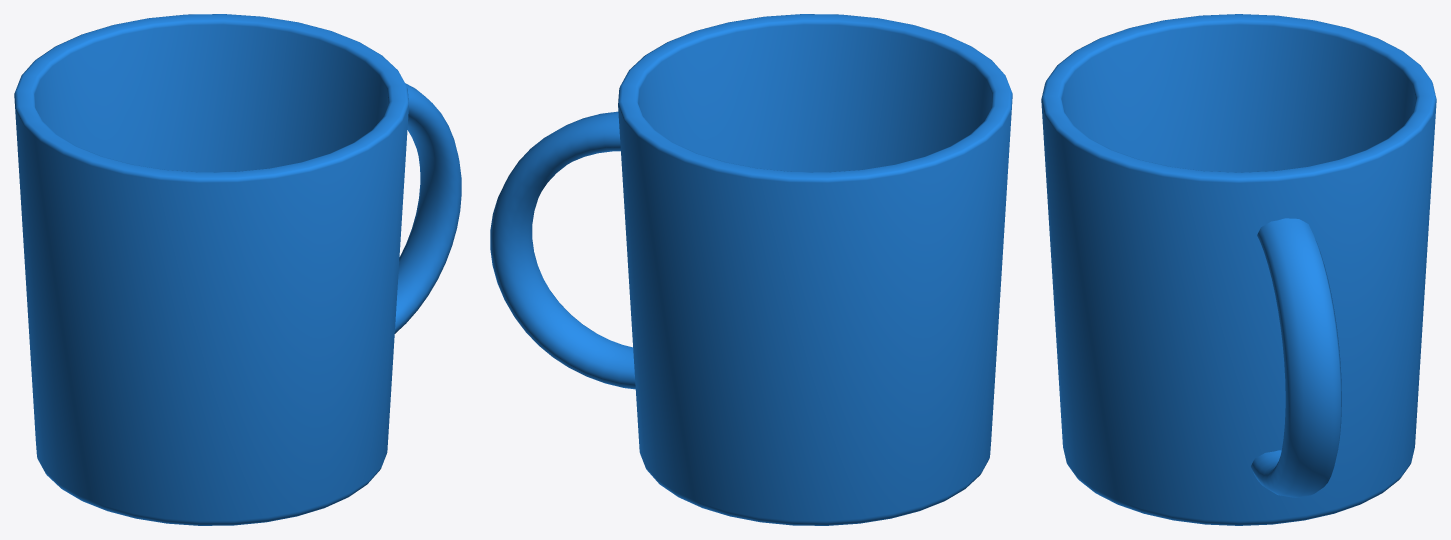
Rendered from マグカップ.glb.
The picture shows the model from 3 angles, left to right: view 1: azimuth 30°, elevation 25°; view 2: azimuth 150°, elevation 25°; view 3: azimuth 270°, elevation 25°; orthographic projection.
Visible parts, largest first — view 1: コップ; view 2: コップ; view 3: コップ.
Boxes of the visible parts, left/top/right/bottom form: コップ: left=14, top=14, right=461, bottom=525; コップ: left=490, top=14, right=1012, bottom=525; コップ: left=1041, top=14, right=1436, bottom=525.
Bounding box in the file's own units: 0.1322 × 0.1 × 0.0999.
